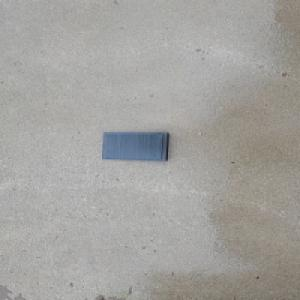PlasticPart: (100, 131, 170, 161)
